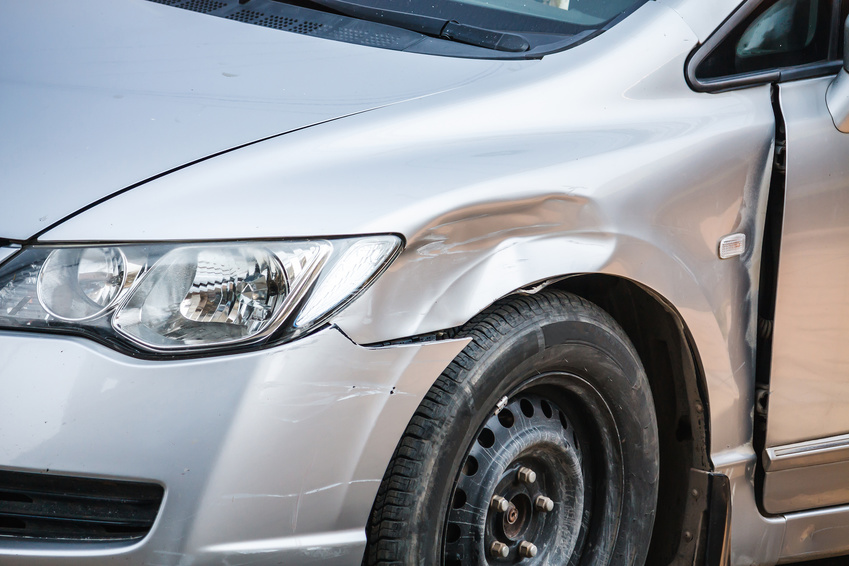car_dent: (335, 165, 642, 300)
